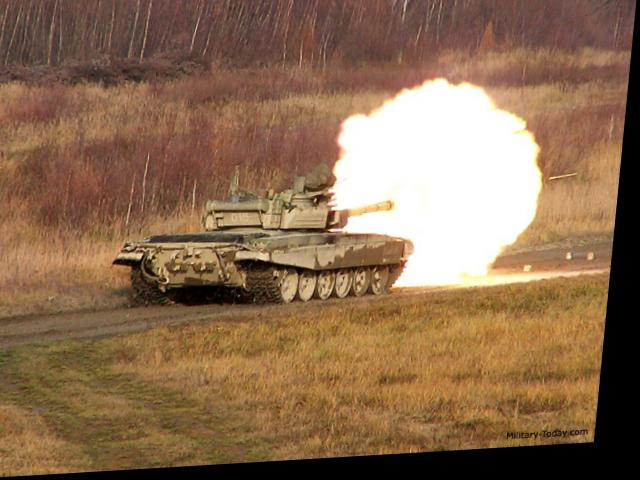tank: (128, 179, 420, 322)
